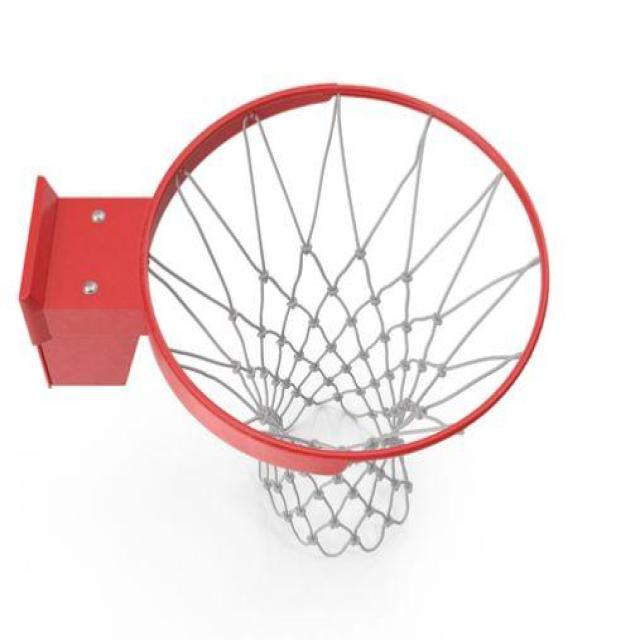hoop: (31, 158, 558, 559)
